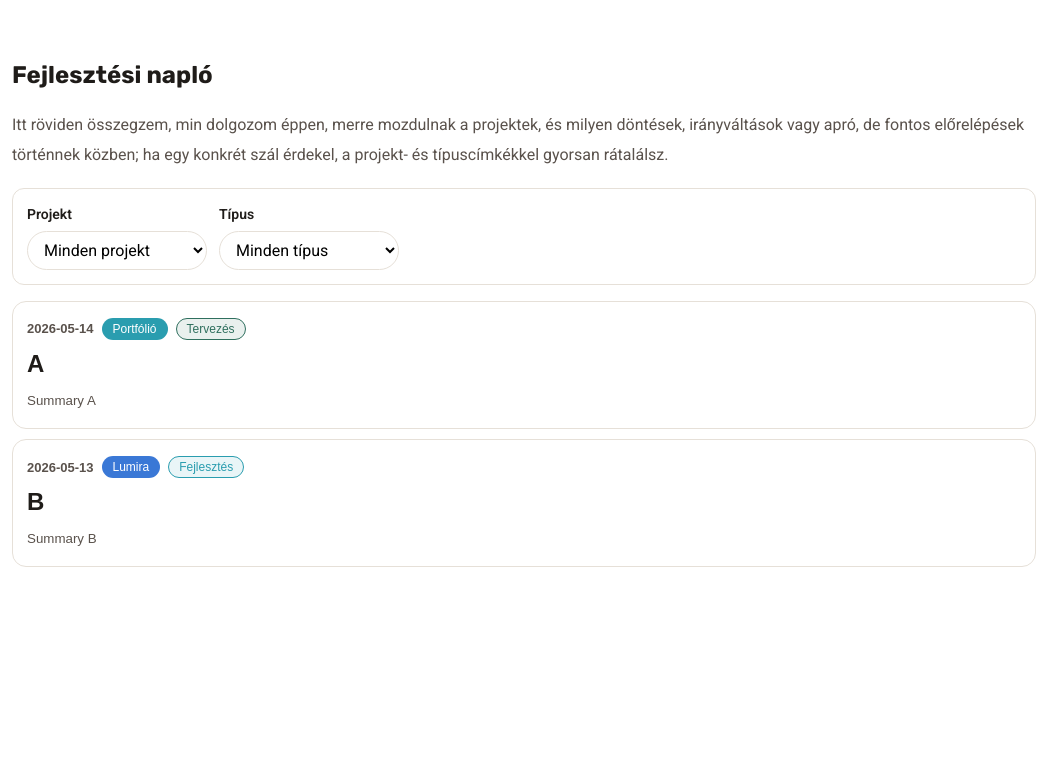
JournalSection › expands entry body on click
Expected: the text "Body A" is not shown
Click the button "A": (60, 329) [13,302,1035,428]
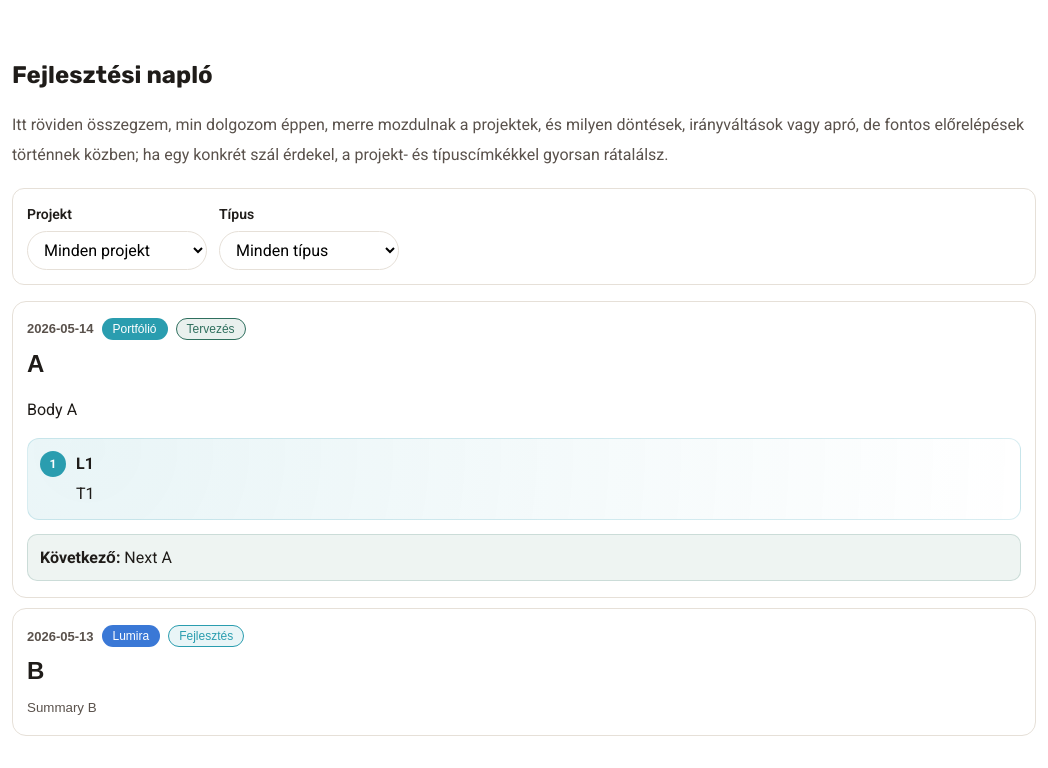
Expected: the text "Body A" is shown, [27,400,77,419]
